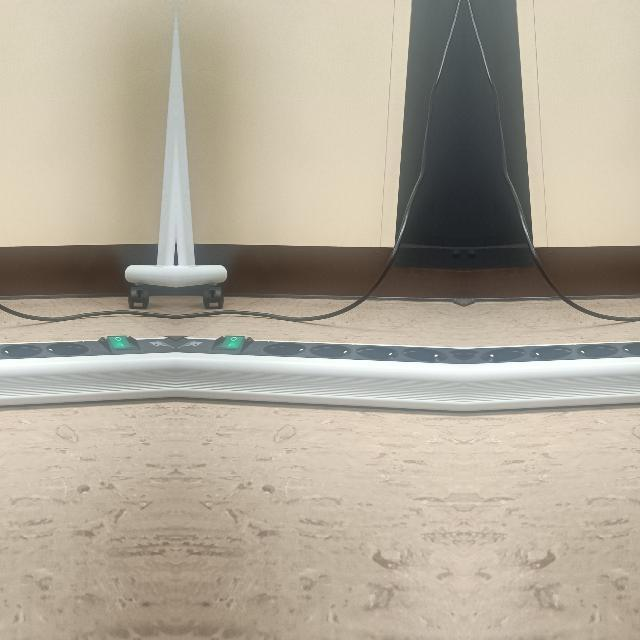obstacle: (176, 332, 464, 416), (463, 332, 640, 416), (0, 332, 173, 416), (175, 190, 227, 312), (123, 190, 175, 312)
